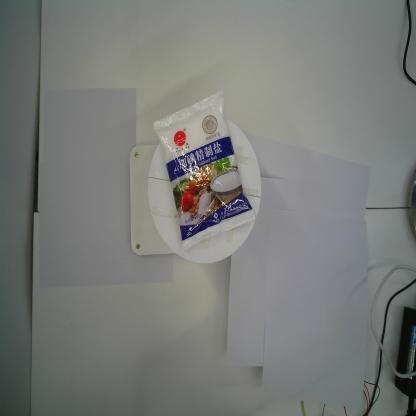Seasoner: (150, 90, 256, 254)
